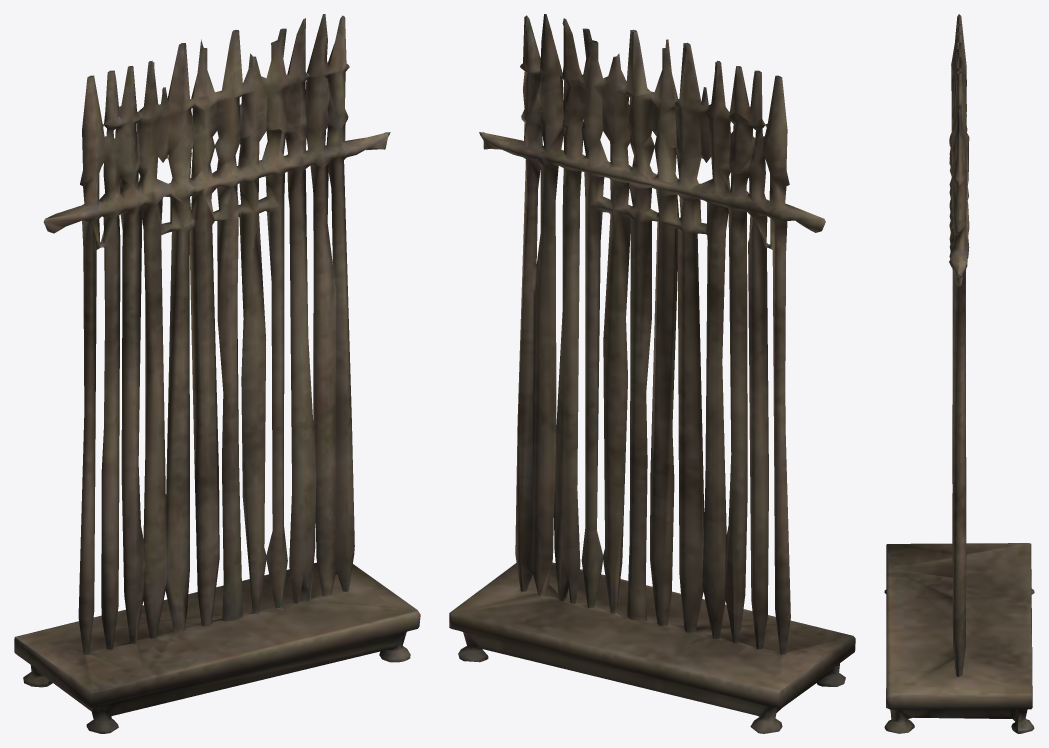
File: weathered-wood-weapon-rack-v003.glb
3 renders of one model, left to right at view 1: azimuth 30°, elevation 25°; view 2: azimuth 150°, elevation 25°; view 3: azimuth 270°, elevation 25°, orthographic. The views are drawn at different scales.
Visible parts, largest first — view 1: weathered-wood-weapon-rack; view 2: weathered-wood-weapon-rack; view 3: weathered-wood-weapon-rack.
Part boxes in pixels (bbox=[...]): weathered-wood-weapon-rack: bbox=[14, 14, 420, 733]; weathered-wood-weapon-rack: bbox=[449, 14, 855, 733]; weathered-wood-weapon-rack: bbox=[884, 14, 1034, 733].
Size of the model in its own units: 1.04 by 1.82 by 0.4138.
Materials: 1 (1 with a texture image).
